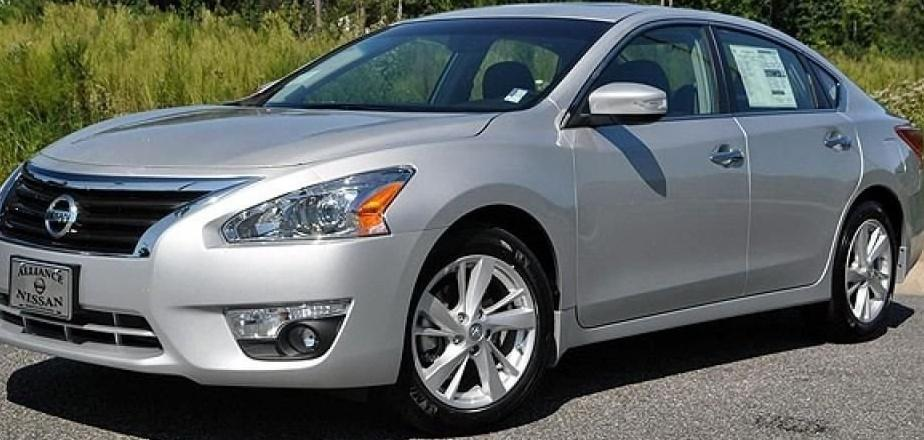Cars: (1, 6, 924, 434)
